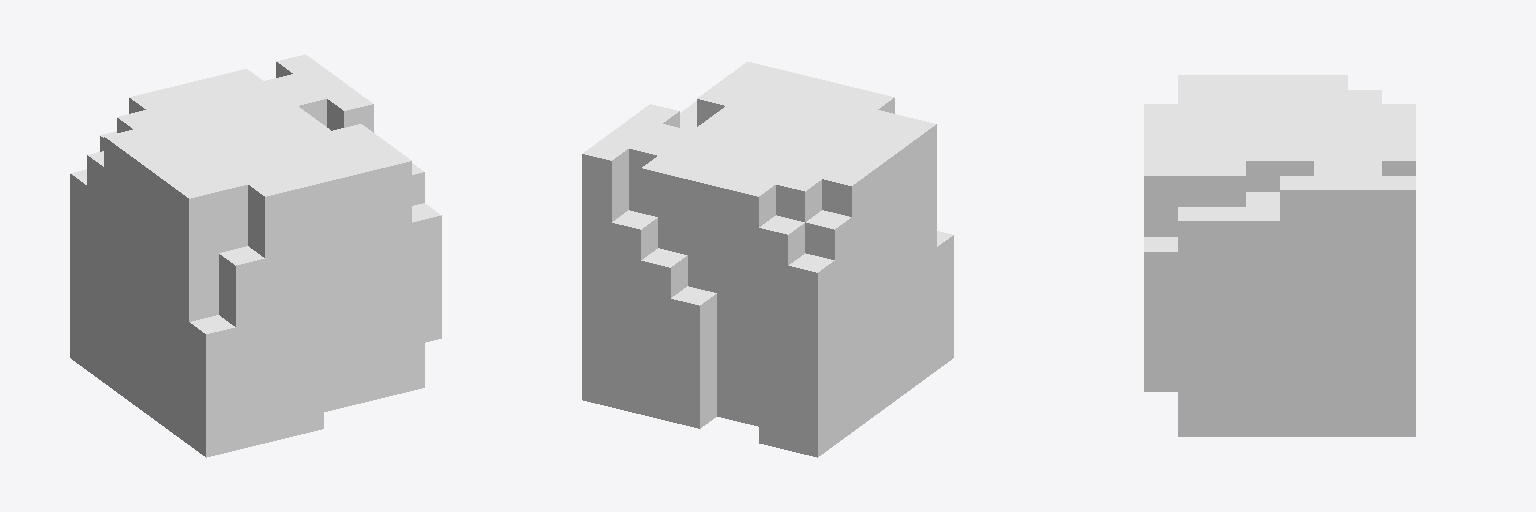
File: stoneBoxBroken.obj
The picture shows the model from 3 angles: view 1: azimuth 30°, elevation 25°; view 2: azimuth 150°, elevation 25°; view 3: azimuth 270°, elevation 25°; orthographic projection.
Size of the model in its own units: 8 by 8 by 8.